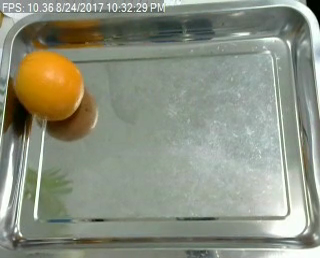Orange: (12, 48, 84, 118)
